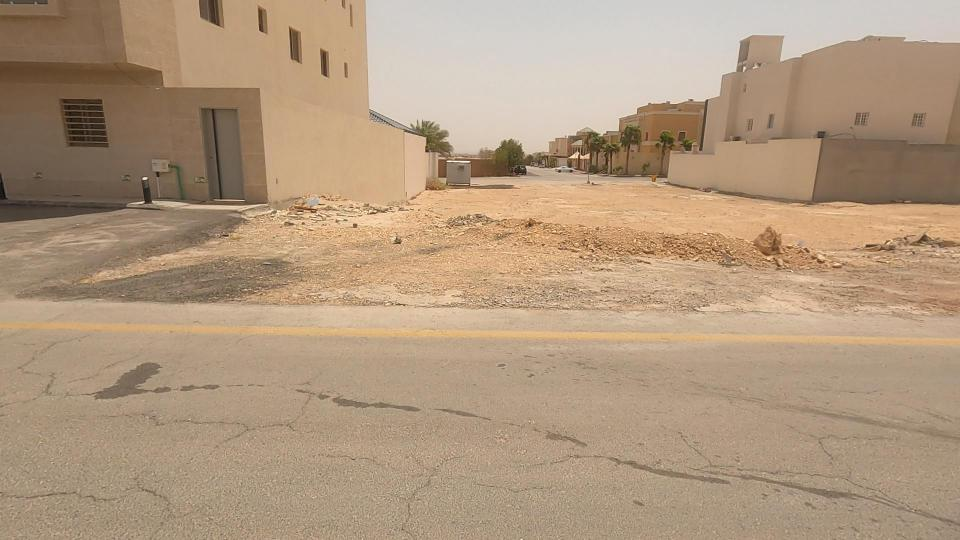GARBAGE: (262, 158, 382, 247)
